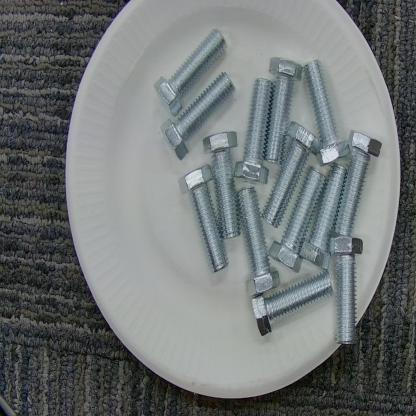FOD: (152, 25, 384, 318)
